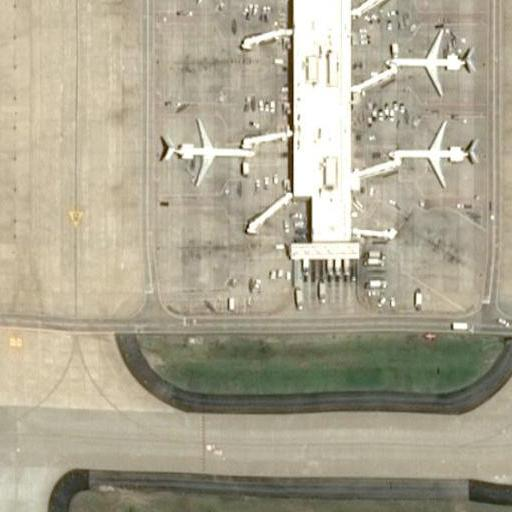Aircraft: (158, 117, 259, 185), (386, 116, 479, 189), (382, 21, 473, 93)
